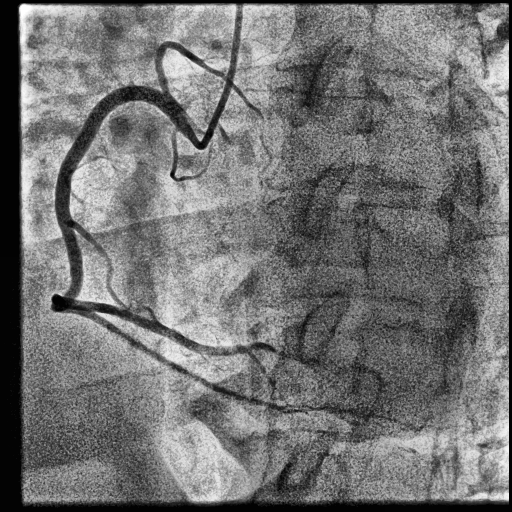rca: (55, 85, 248, 356)
